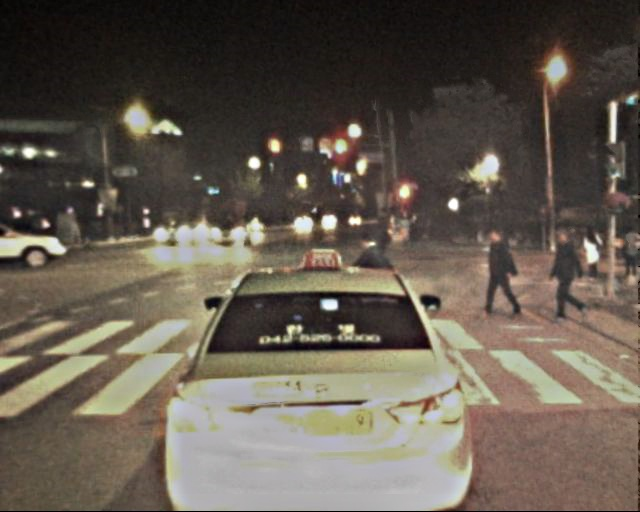person: (482, 229, 522, 327), (547, 230, 587, 327), (354, 233, 390, 322), (578, 226, 604, 289), (616, 225, 640, 283)
